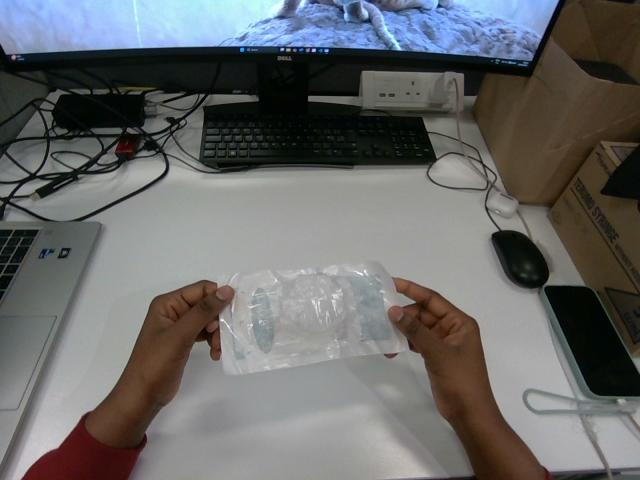gallipot: (218, 262, 407, 373)
